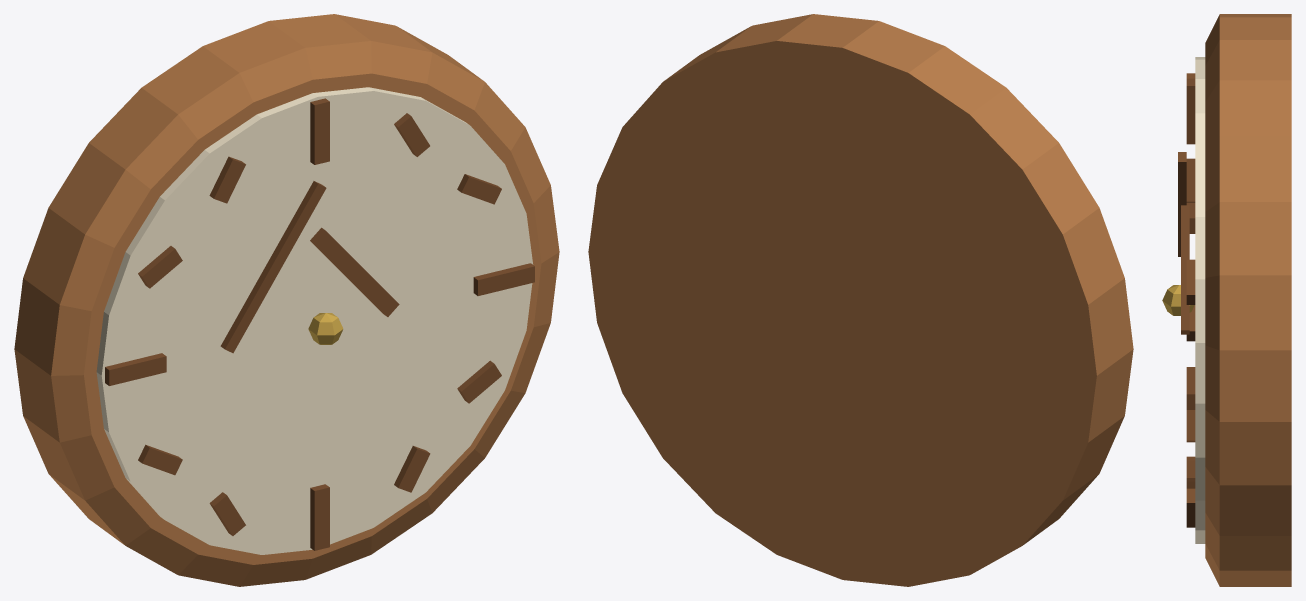
The model's file is home_clock_v01.glb.
3 views of the same model, side by side, from view 1: azimuth 30°, elevation 25°; view 2: azimuth 150°, elevation 25°; view 3: azimuth 270°, elevation 25° (orthographic). The views are drawn at different scales.
Visible parts, largest first — view 1: clock; view 2: clock; view 3: clock.
Boxes of the visible parts, bbox=[...] form: clock: bbox=[14, 14, 559, 586]; clock: bbox=[588, 14, 1133, 586]; clock: bbox=[1162, 14, 1291, 586].
Bounding box in the file's own units: 0.4 × 0.4 × 0.09.
